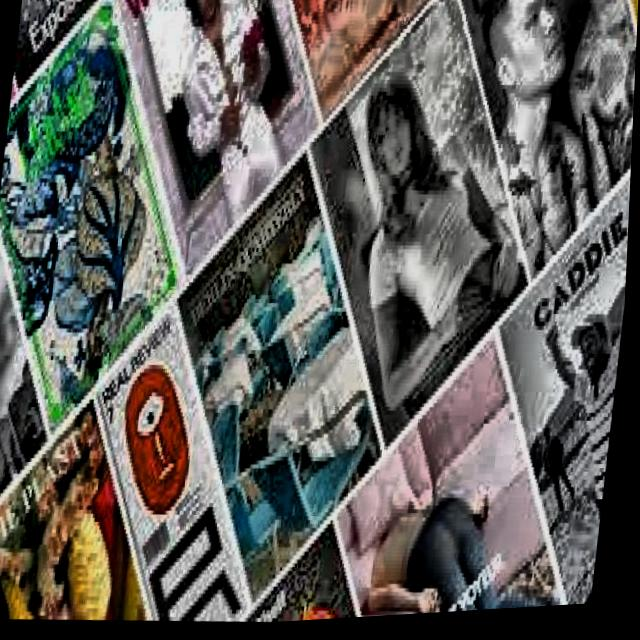Paper: (146, 136, 419, 610), (279, 0, 560, 460), (0, 0, 212, 441), (328, 316, 601, 624), (471, 153, 634, 617), (85, 0, 336, 290), (78, 295, 278, 628), (427, 0, 640, 289), (0, 384, 169, 626), (274, 0, 453, 132), (0, 217, 72, 543), (251, 517, 375, 627)
